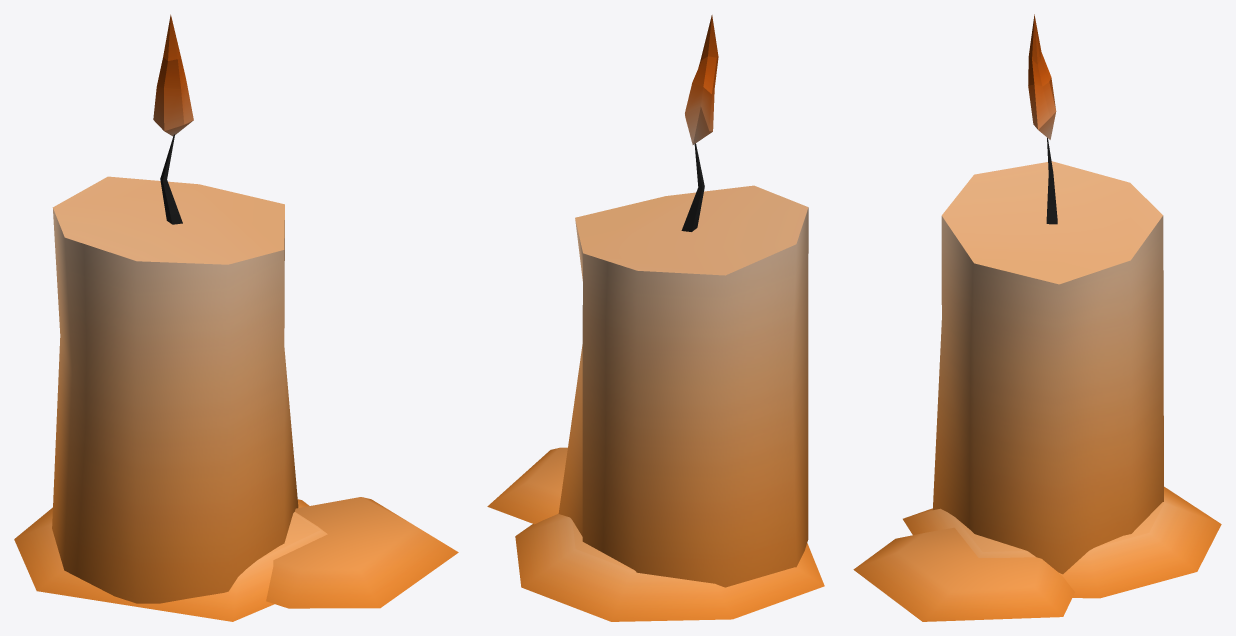
File: candle.fbx
The picture shows the model from 3 angles, left to right: view 1: azimuth 30°, elevation 25°; view 2: azimuth 150°, elevation 25°; view 3: azimuth 270°, elevation 25°; orthographic projection. The views are drawn at different scales.
Visible parts, largest first — view 1: Candle; view 2: Candle; view 3: Candle.
Part boxes in pixels (bbox=[...]): Candle: bbox=[14, 14, 458, 621]; Candle: bbox=[487, 15, 824, 621]; Candle: bbox=[853, 14, 1221, 621].
Bounding box in the file's own units: 14.43 × 21.64 × 14.19.
Materials: 1 (1 with a texture image).
